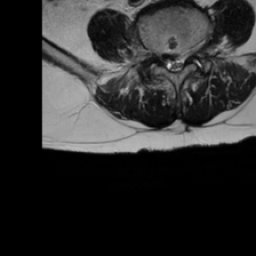CCS_severe_stenosis: (171, 48, 178, 77)
LFS_normal: (186, 36, 194, 63)
LLS_normal: (178, 42, 186, 75)
RFS_severe_stenosis: (157, 43, 164, 69)
RLS_normal: (164, 45, 171, 76)
